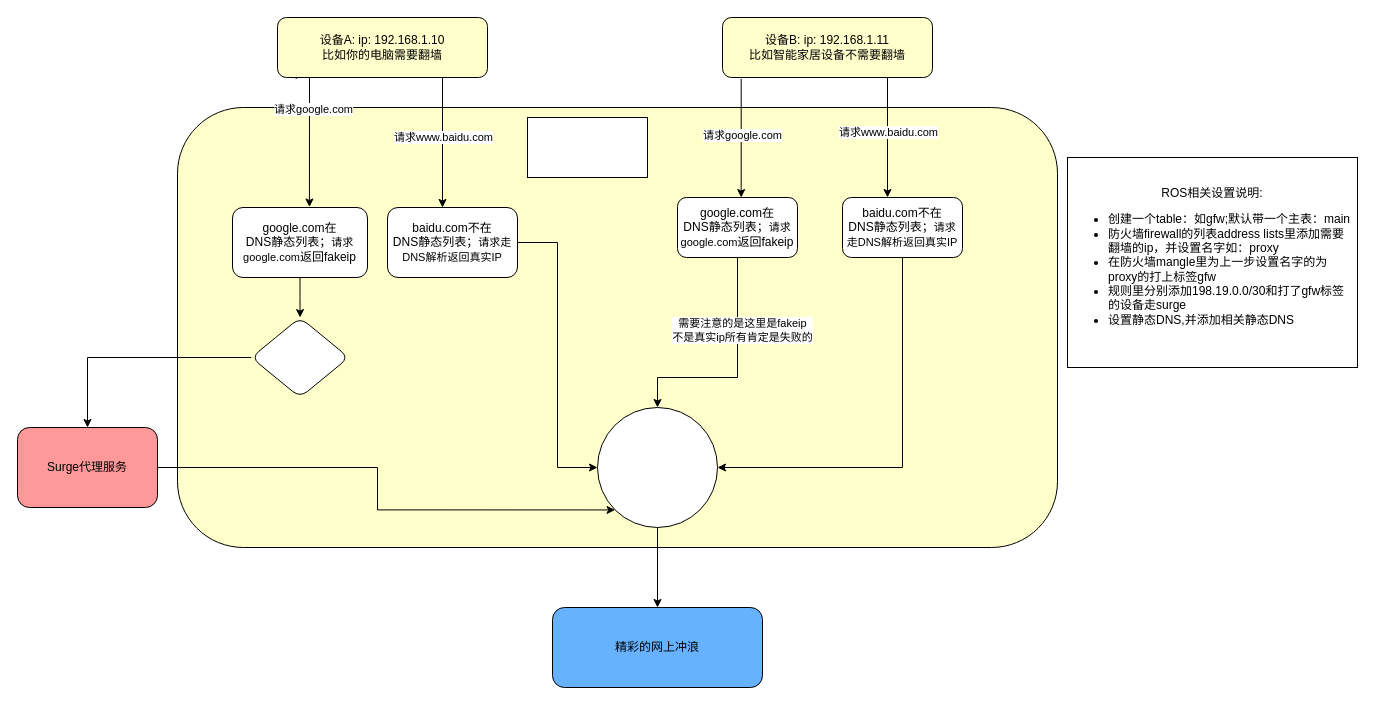
Some shapes in this 1375 by 705 pixel diagram are drawn without their labels. The box of each missing label's shape, as (x1, y1, x2, y2) in pixels:
ROS直接处理 请求web: (596, 406, 718, 528)
ROS路由器(192.168.1.1) （拨号上网，防火墙，DNS等功能）: (526, 116, 648, 178)
有 gfw标签: (250, 316, 349, 398)
